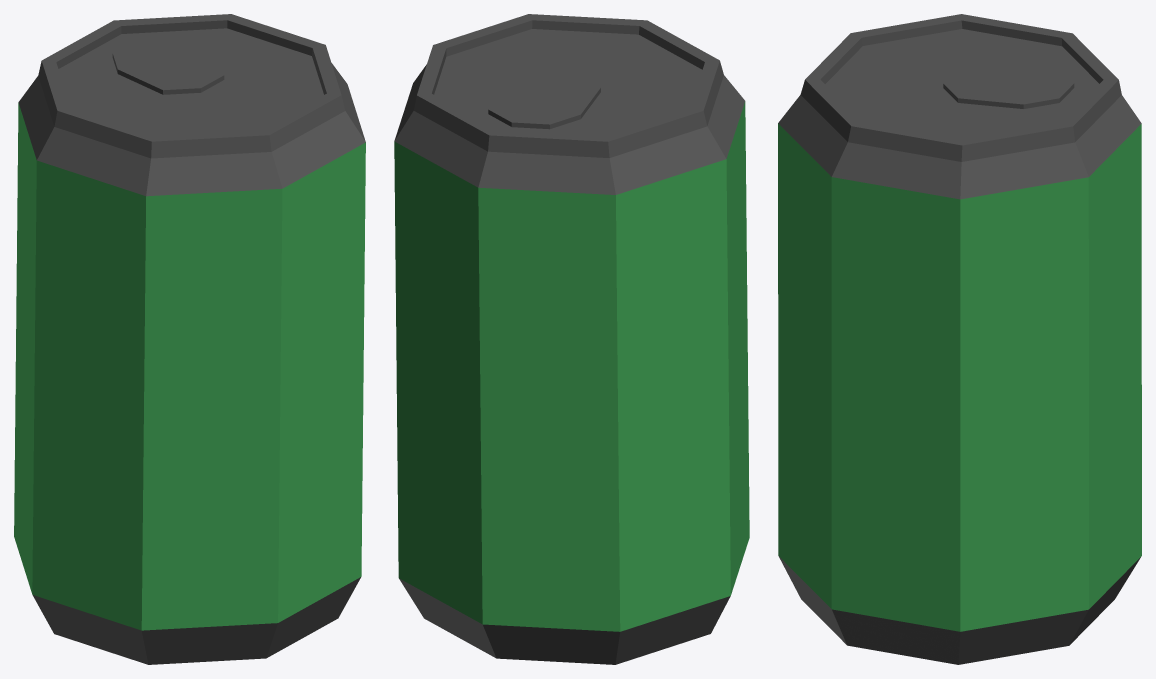
The model's file is Dåse_Grøn.fbx.
3 renders of one model, left to right at view 1: azimuth 30°, elevation 25°; view 2: azimuth 150°, elevation 25°; view 3: azimuth 270°, elevation 25°, orthographic.
Visible parts, largest first — view 1: Dåse; view 2: Dåse; view 3: Dåse.
Part boxes in pixels (box(x1,y1,x2,y2)): Dåse: box(14, 14, 365, 664); Dåse: box(394, 14, 749, 664); Dåse: box(778, 14, 1141, 664).
Size of the model in its own units: 13.61 by 21.46 by 13.55.
